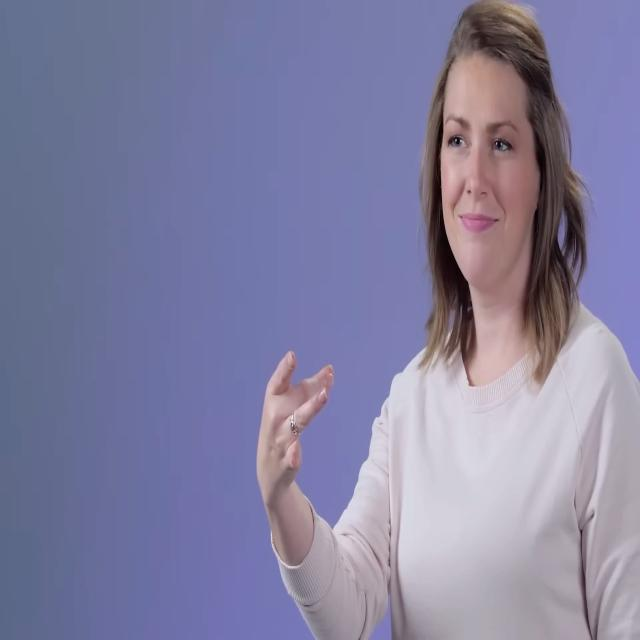like: (240, 339, 354, 508)
